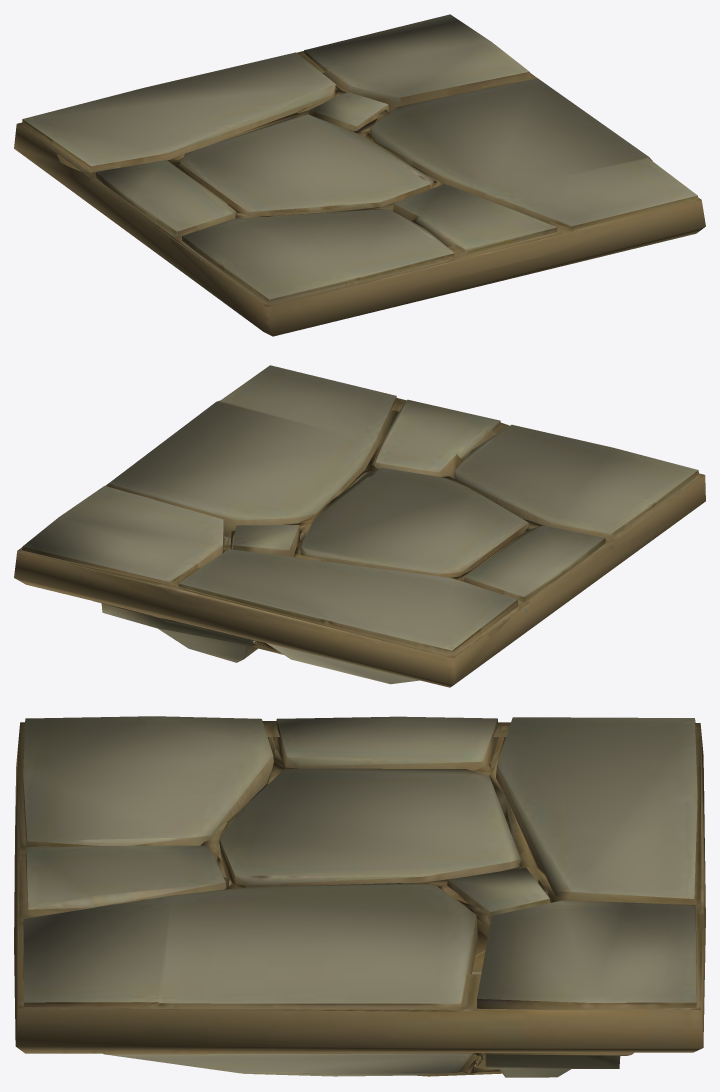
Rendered from crypt-flagstone.glb.
3 renders of one model, top to bottom at view 1: azimuth 30°, elevation 25°; view 2: azimuth 150°, elevation 25°; view 3: azimuth 270°, elevation 25°, orthographic. The views are drawn at different scales.
Parts seen in each view (by area): view 1: 02_flagstone_module_LOD1_P2_02_flagstone_module; view 2: 02_flagstone_module_LOD1_P2_02_flagstone_module; view 3: 02_flagstone_module_LOD1_P2_02_flagstone_module.
Part boxes in pixels (x1,y1,x2,y2): 02_flagstone_module_LOD1_P2_02_flagstone_module: [14, 14, 705, 336]; 02_flagstone_module_LOD1_P2_02_flagstone_module: [14, 365, 705, 687]; 02_flagstone_module_LOD1_P2_02_flagstone_module: [14, 716, 705, 1077].
Bounding box in the file's own units: 0.9961 × 0.3366 × 0.9983.
1 material, 1 textured.
